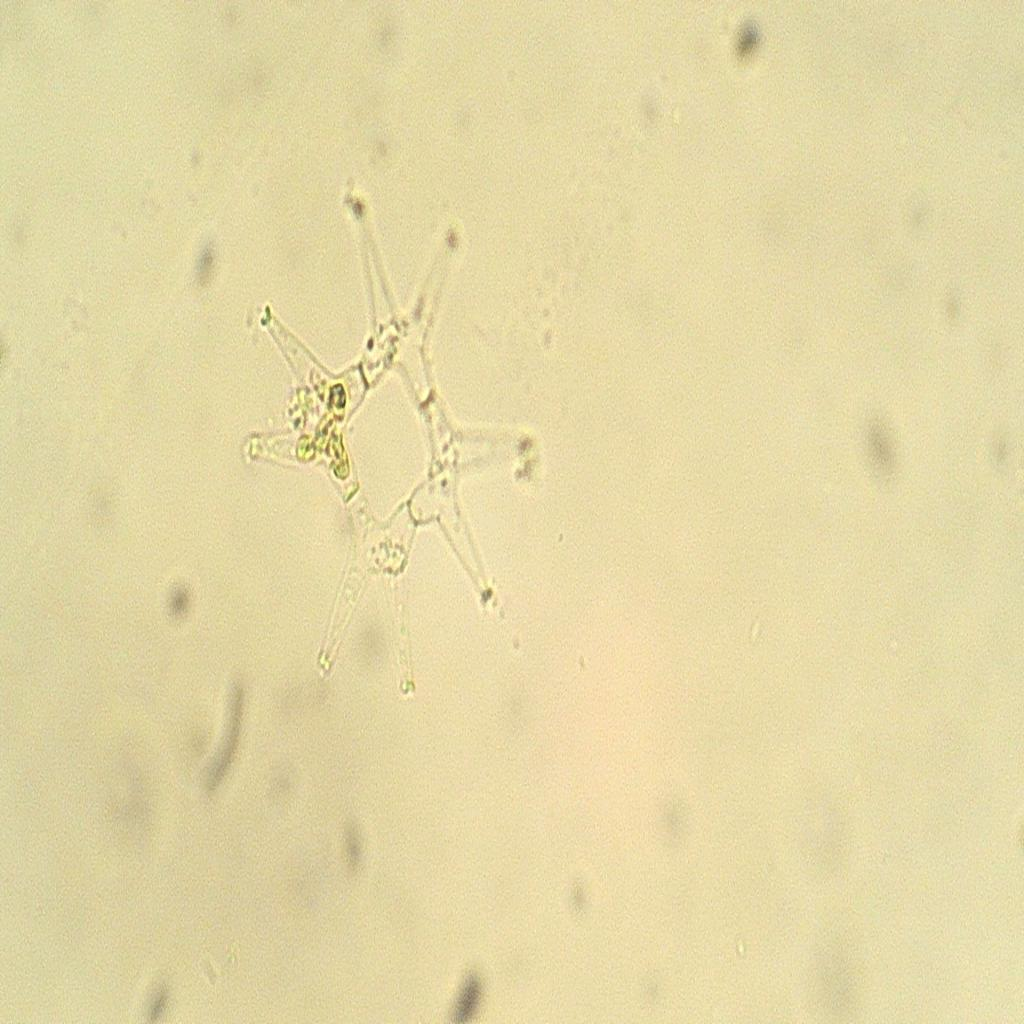Pediastrum_75TH: (228, 162, 553, 718)
